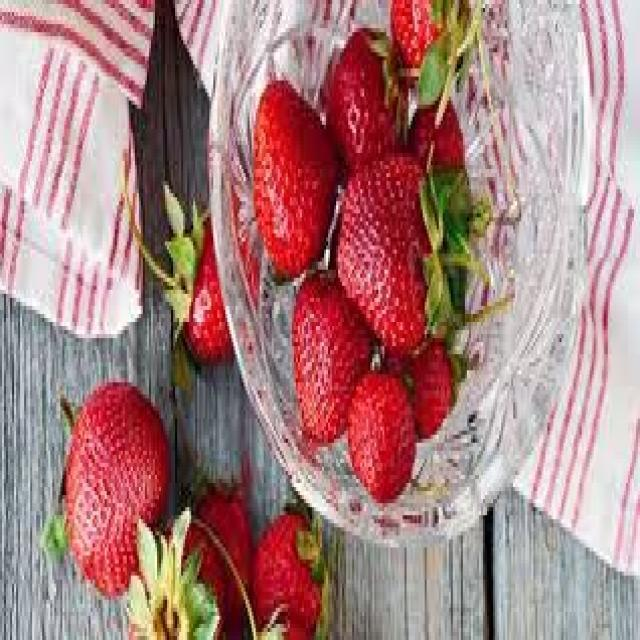Strawberry: (46, 378, 171, 600), (332, 148, 433, 362), (250, 76, 338, 282), (290, 266, 374, 442), (182, 455, 252, 636), (324, 24, 397, 169), (250, 507, 330, 636), (344, 366, 414, 503), (181, 210, 234, 366), (403, 96, 473, 171), (406, 340, 458, 438), (385, 0, 448, 68)
